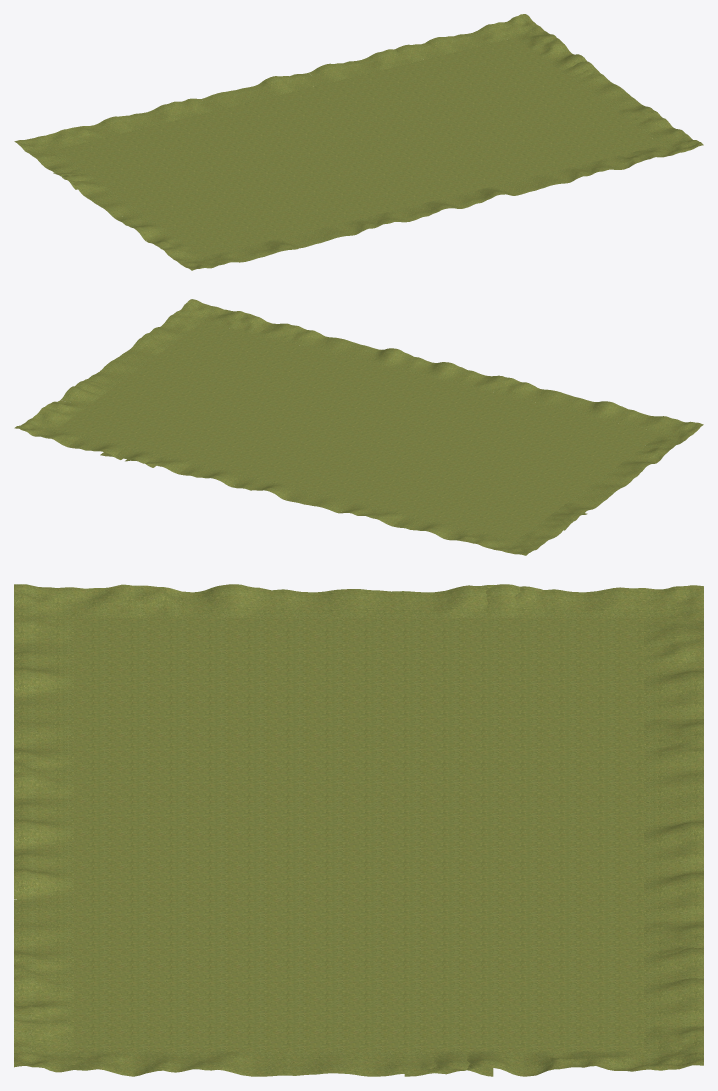
File: RTIS_track_field.dae
3 renders of one model, top to bottom at view 1: azimuth 30°, elevation 25°; view 2: azimuth 150°, elevation 25°; view 3: azimuth 270°, elevation 25°, orthographic. The views are drawn at different scales.
Parts seen in each view (by area): view 1: field, bg_terrain; view 2: field, bg_terrain; view 3: field, bg_terrain.
Boxes of the visible parts, box(x1,y1,x2,y2) form: field: box(56, 37, 661, 256); bg_terrain: box(14, 14, 703, 270); field: box(56, 322, 661, 541); bg_terrain: box(14, 299, 703, 555); field: box(74, 617, 643, 1051); bg_terrain: box(14, 584, 703, 1076).
Size of the model in its own units: 920 by 554 by 11.66.
2 materials, 2 textured.
